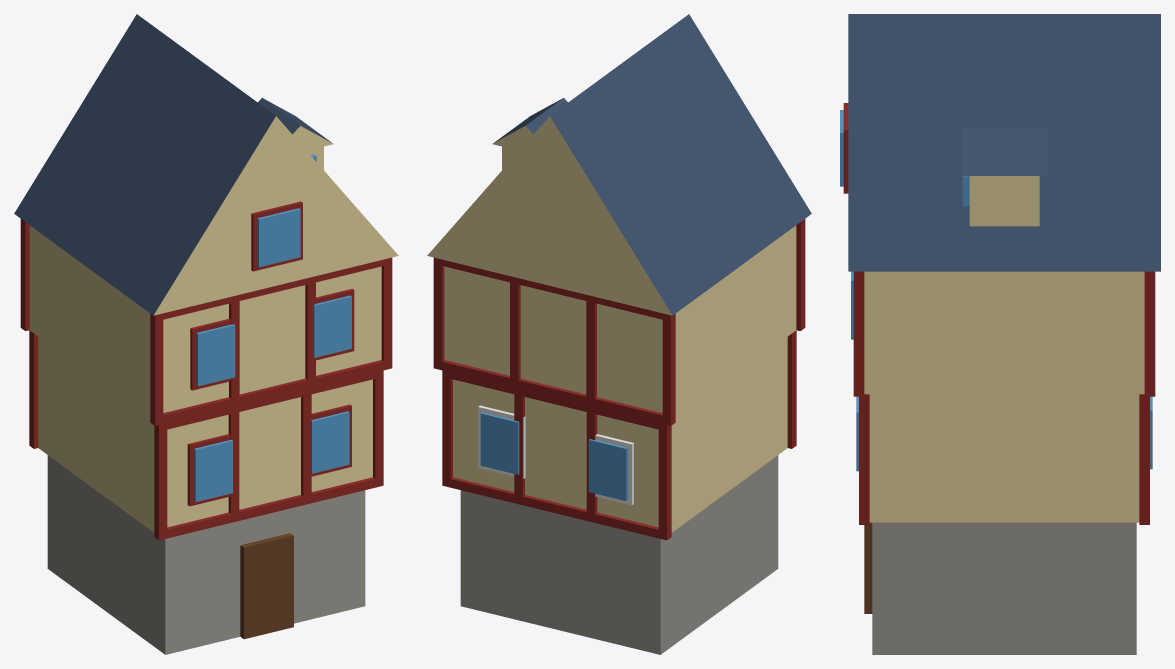
Rendered from 24_mosel_house_3.obj.
3 views of the same model, side by side, from view 1: azimuth 30°, elevation 25°; view 2: azimuth 150°, elevation 25°; view 3: azimuth 270°, elevation 25° (orthographic). The views are drawn at different scales.
Visible parts, largest first — view 1: 24_mosel_house_3; view 2: 24_mosel_house_3; view 3: 24_mosel_house_3.
Boxes of the visible parts, x1,y1,x2,y2 form: 24_mosel_house_3: (14,14,398,654); 24_mosel_house_3: (427,14,811,654); 24_mosel_house_3: (840,14,1160,654).
Bounding box in the file's own units: 1.18 × 2.4 × 1.19.
